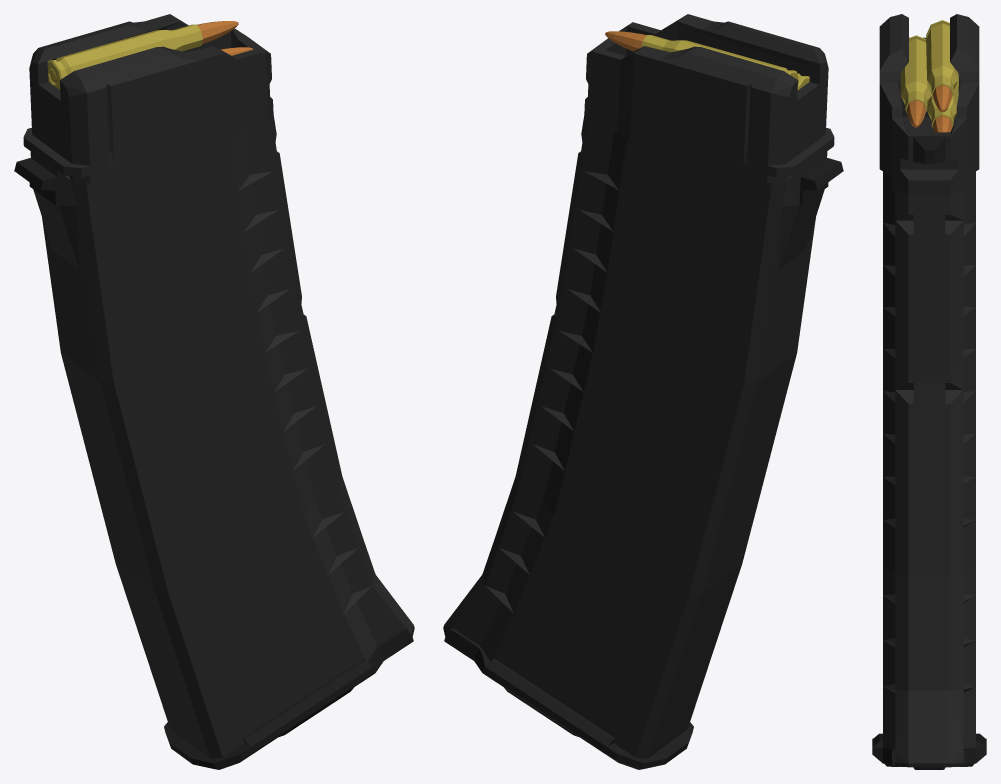
Rendered from mag_556_ak101_30.glb.
The picture shows the model from 3 angles, left to right: view 1: azimuth 30°, elevation 25°; view 2: azimuth 150°, elevation 25°; view 3: azimuth 270°, elevation 25°; orthographic projection. The views are drawn at different scales.
Parts seen in each view (by area): view 1: ak101 30rnd mag (polymer)_20 (×4); view 2: ak101 30rnd mag (polymer)_20 (×3); view 3: ak101 30rnd mag (polymer)_20 (×4).
Part boxes in pixels (x1,y1,x2,y2): ak101 30rnd mag (polymer)_20 (×4): (14,14,414,769); ak101 30rnd mag (polymer)_20 (×3): (443,14,843,769); ak101 30rnd mag (polymer)_20 (×4): (872,14,986,769).
Size of the model in its own units: 1.16 by 2.18 by 0.3312.
